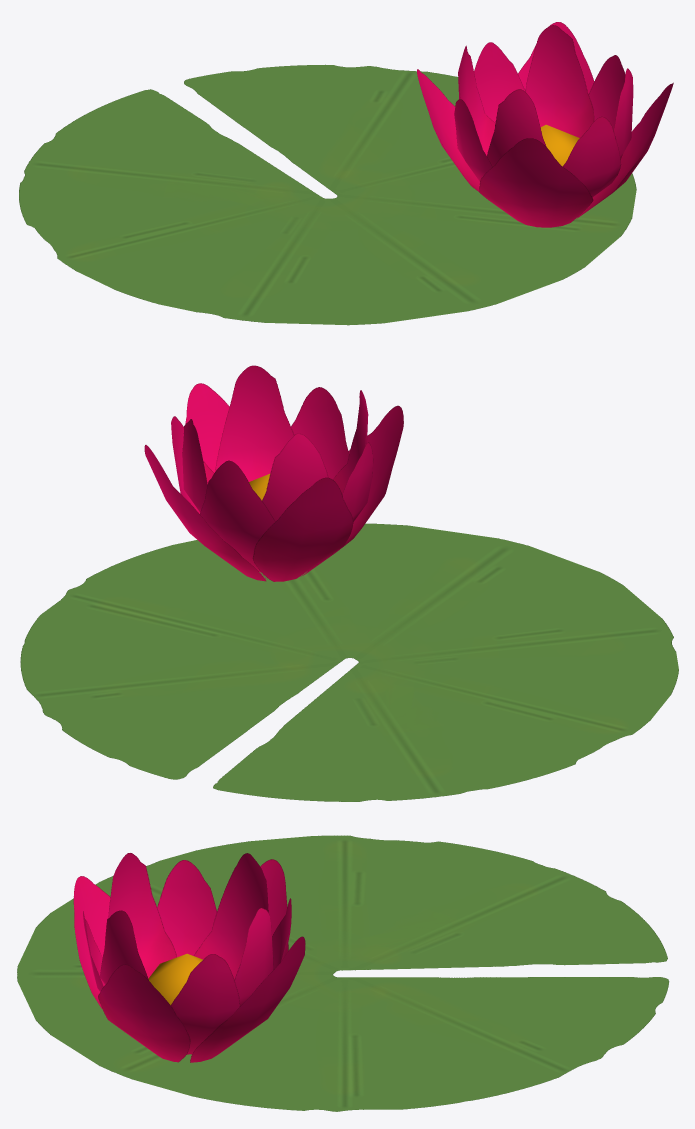
Rendered from LilyPad02.fbx.
The picture shows the model from 3 angles, top to bottom: view 1: azimuth 30°, elevation 25°; view 2: azimuth 150°, elevation 25°; view 3: azimuth 270°, elevation 25°; orthographic projection. The views are drawn at different scales.
Visible parts, largest first — view 1: LilyPad_w_Lily_LOD0; view 2: LilyPad_w_Lily_LOD0; view 3: LilyPad_w_Lily_LOD0.
Part boxes in pixels (x1,y1,x2,y2): LilyPad_w_Lily_LOD0: (19,22,673,325); LilyPad_w_Lily_LOD0: (20,365,678,801); LilyPad_w_Lily_LOD0: (17,835,669,1111).
Size of what is drawn, in the model's own units: 111 by 31.52 by 111.
Materials: 1 (1 with a texture image).
